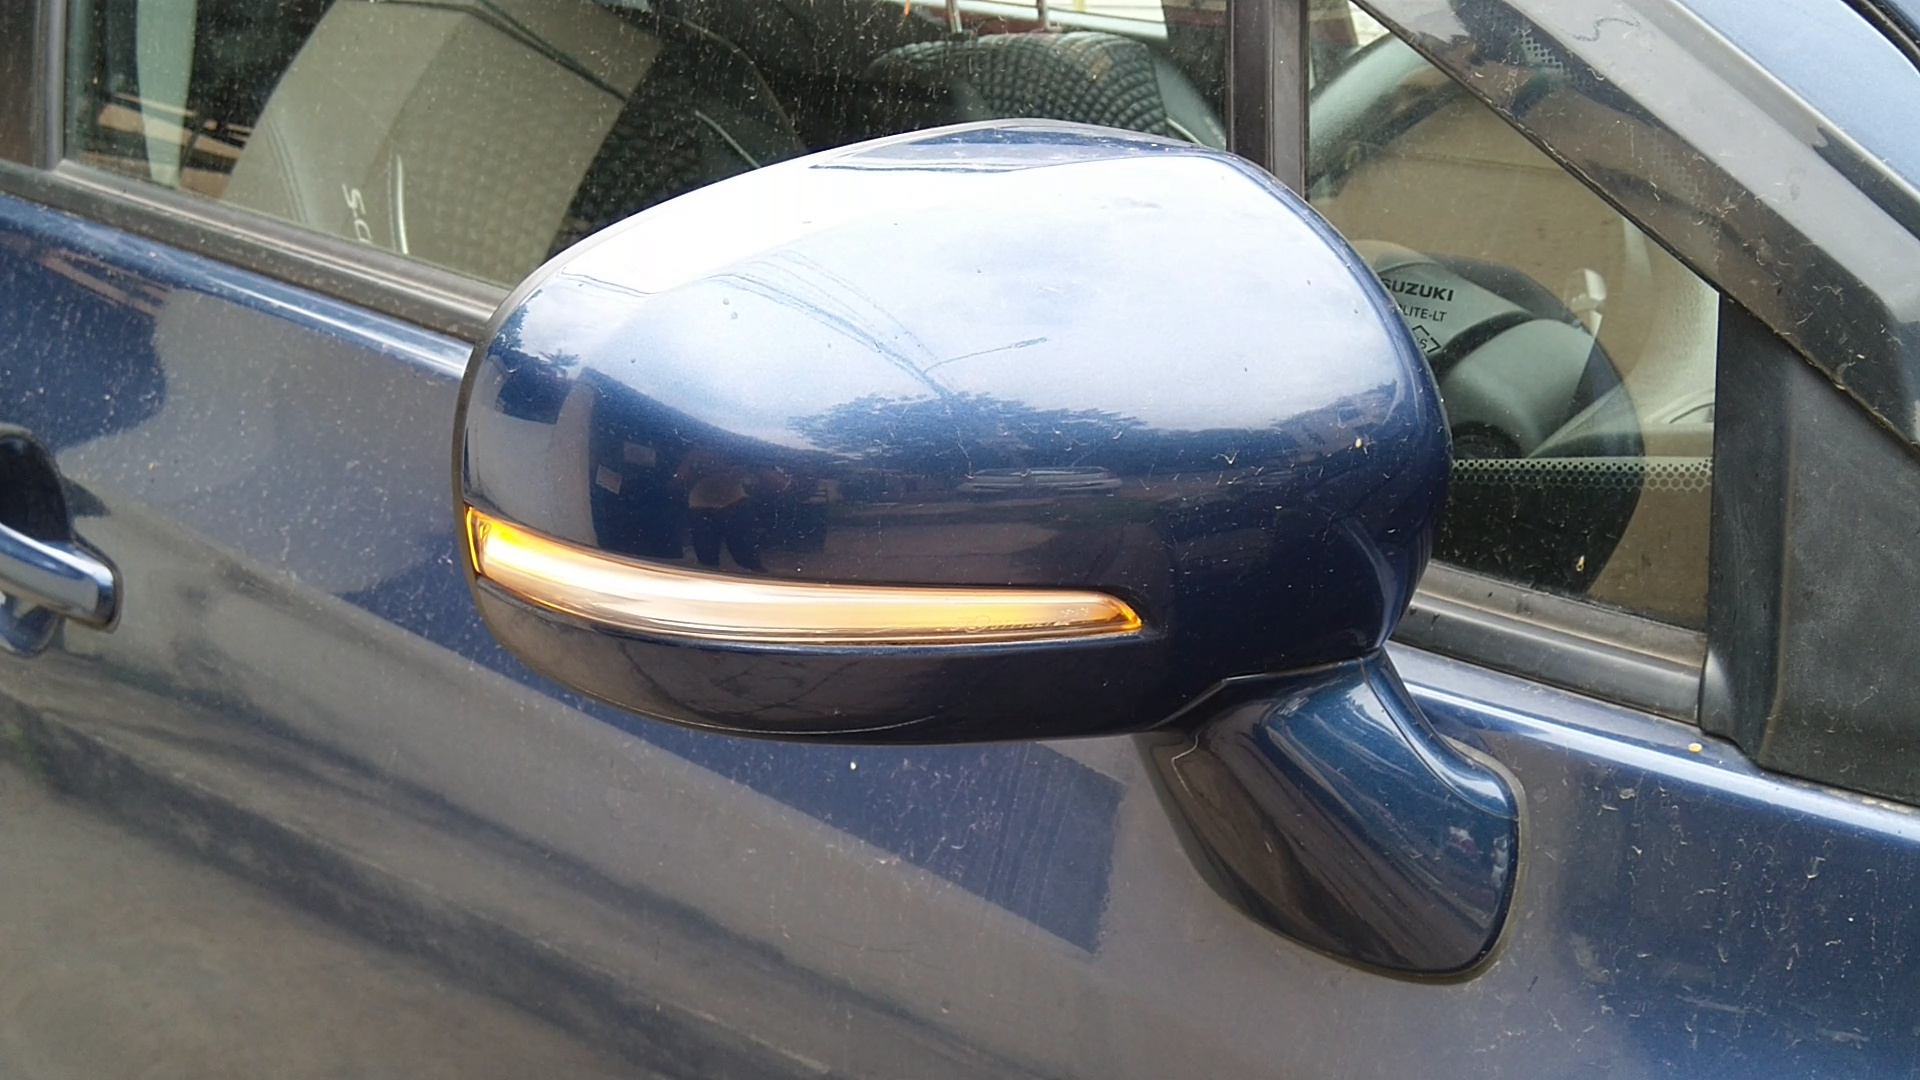ovr_mirror: (406, 84, 1549, 1027)
